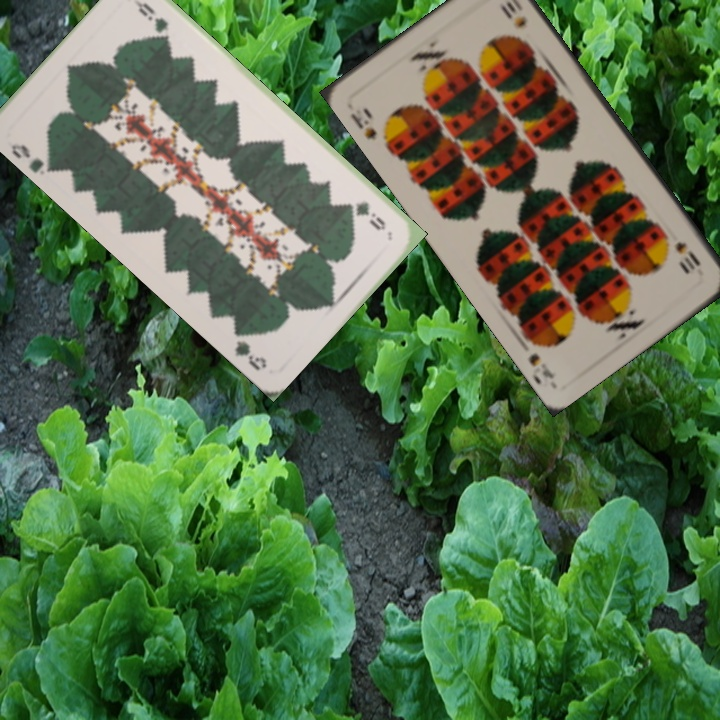G9: (6, 140, 58, 176), (344, 197, 389, 233)
S10: (671, 237, 703, 273), (346, 109, 379, 143)
